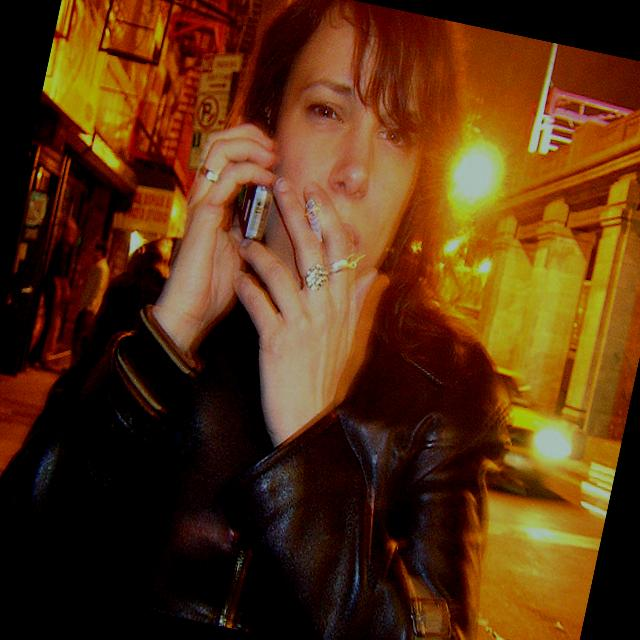Vehicle: (472, 364, 600, 482)
